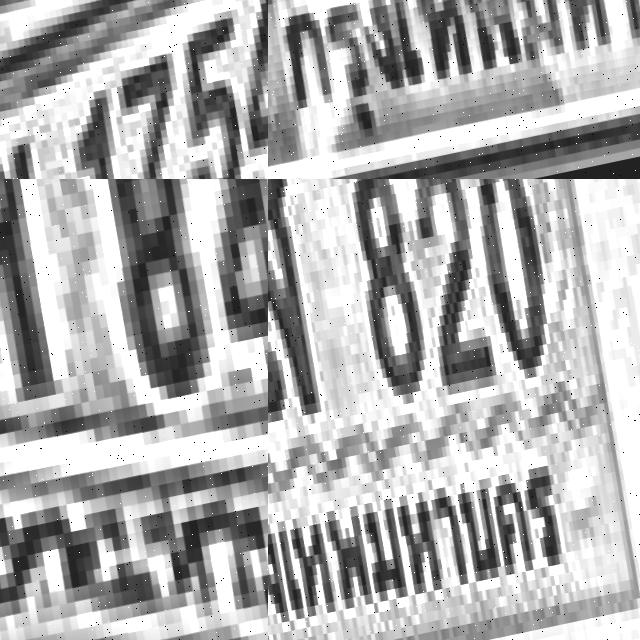license-plate: (268, 179, 640, 640), (0, 179, 268, 640), (268, 0, 640, 179), (0, 0, 268, 179)
